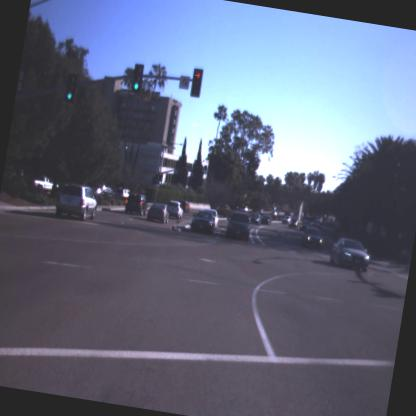trafficlight: (127, 58, 148, 96), (184, 64, 206, 100), (61, 71, 82, 107)
